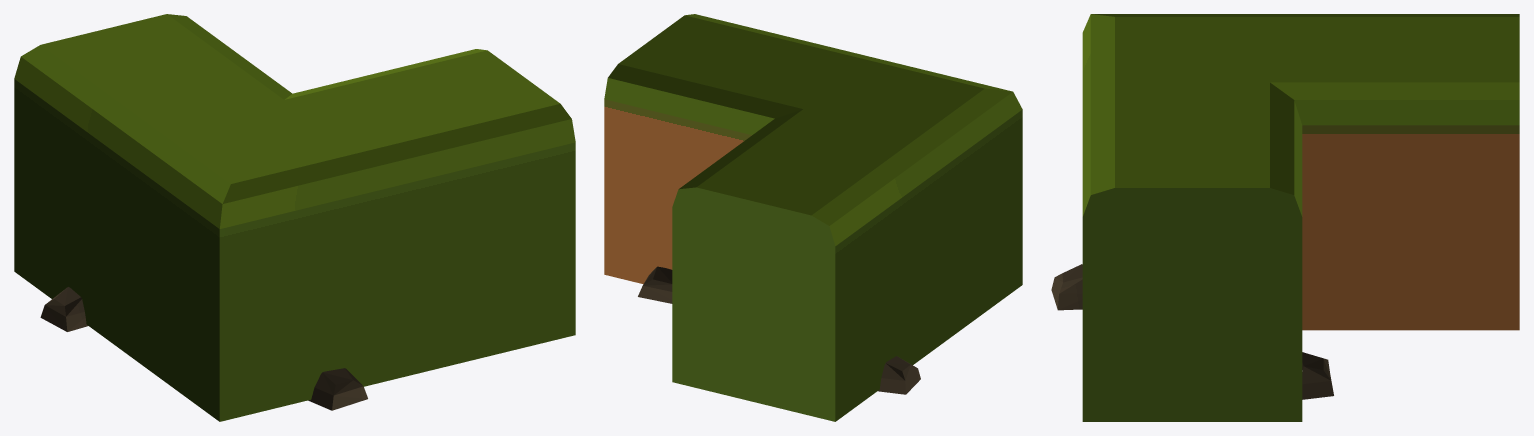
Rendered from city-decor08.fbx.
3 views of the same model, side by side, from view 1: azimuth 30°, elevation 25°; view 2: azimuth 150°, elevation 25°; view 3: azimuth 270°, elevation 25° (orthographic). The views are drawn at different scales.
Parts seen in each view (by area): view 1: city-decor08; view 2: city-decor08; view 3: city-decor08.
Part boxes in pixels (left/top/right/bottom): city-decor08: left=14, top=14, right=575, bottom=421; city-decor08: left=604, top=14, right=1022, bottom=421; city-decor08: left=1051, top=14, right=1519, bottom=421.
Size of the model in its own units: 0.7251 by 0.4034 by 0.7249.
Materials: 1 (1 with a texture image).
